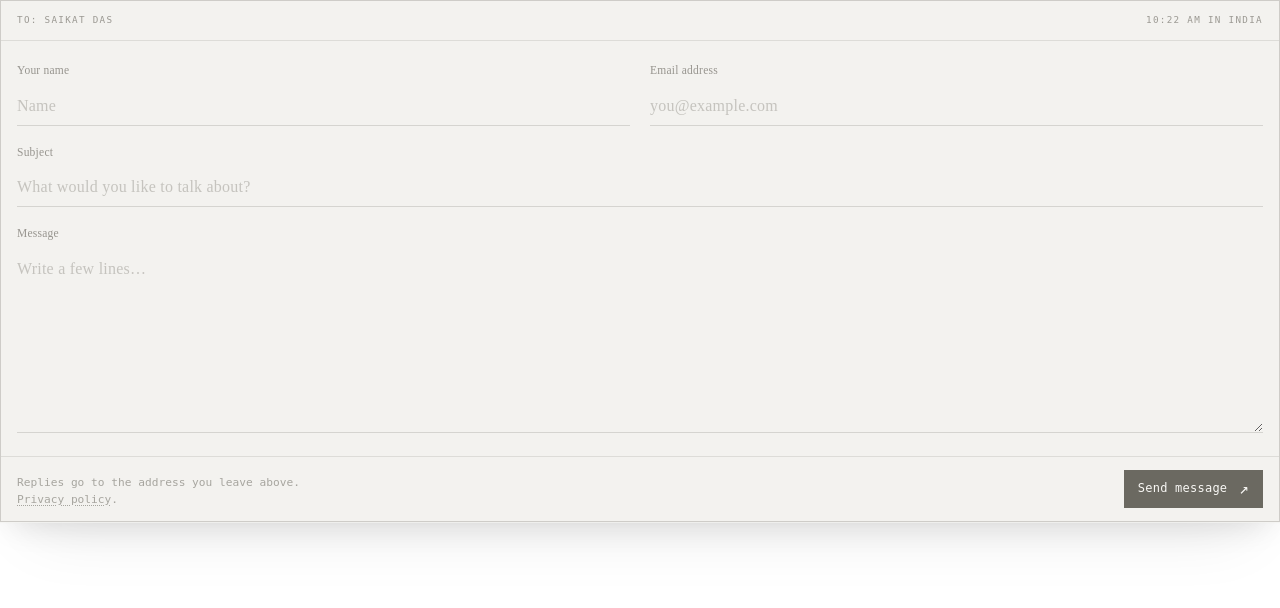
ContactForm › reports a network failure
The width and height of the screenshot is (1280, 608).
Type "Ada Example" into the field labelled "Your name".
click(324, 106); type("Ada Example")  # box left=17, top=87, right=630, bottom=126
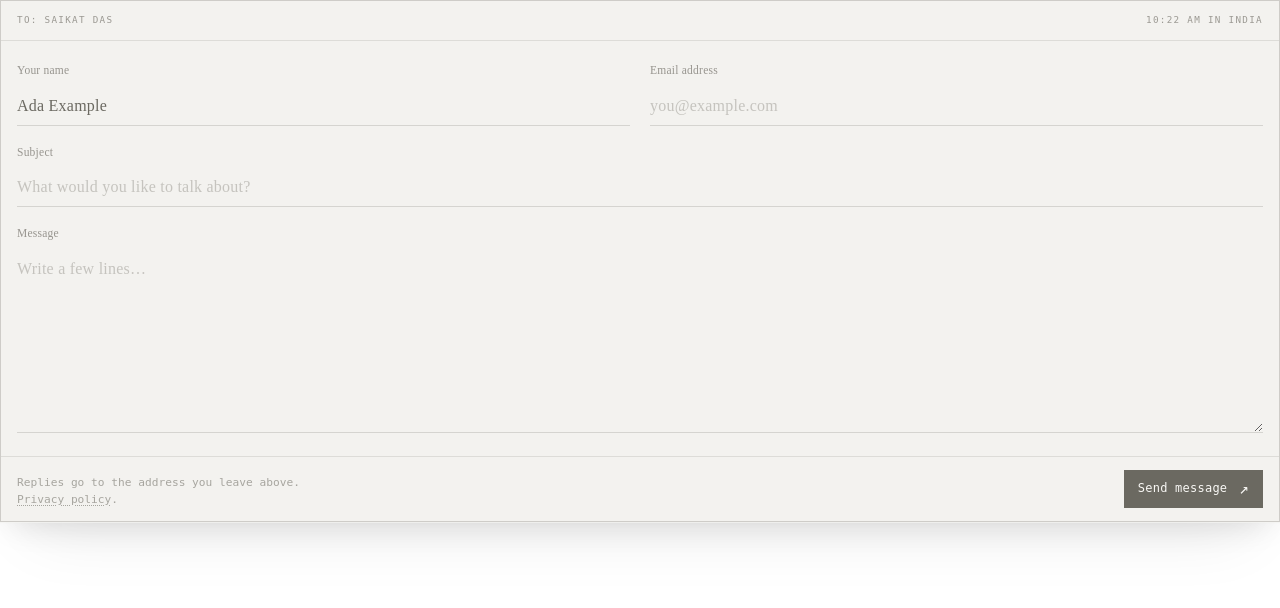
Type "ada@example.com" into the field labelled "Email address".
click(956, 106); type("ada@example.com")  # box left=650, top=87, right=1263, bottom=126
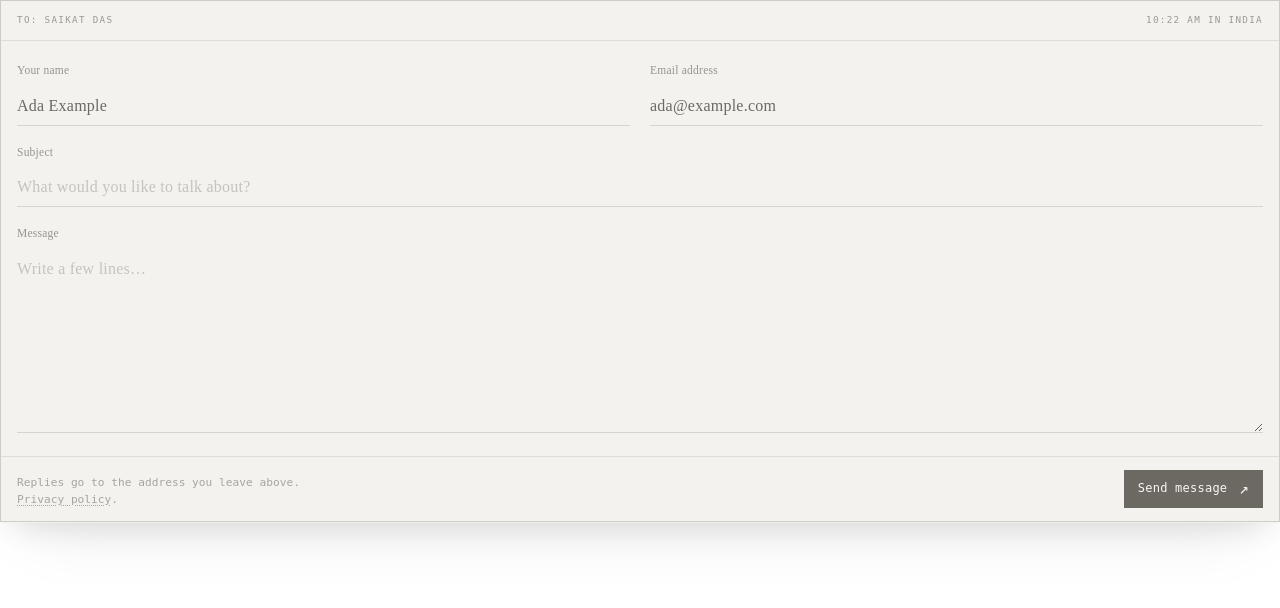
Type "A product question" into the field labelled "Subject".
click(640, 188); type("A product question")  # box left=17, top=168, right=1263, bottom=207
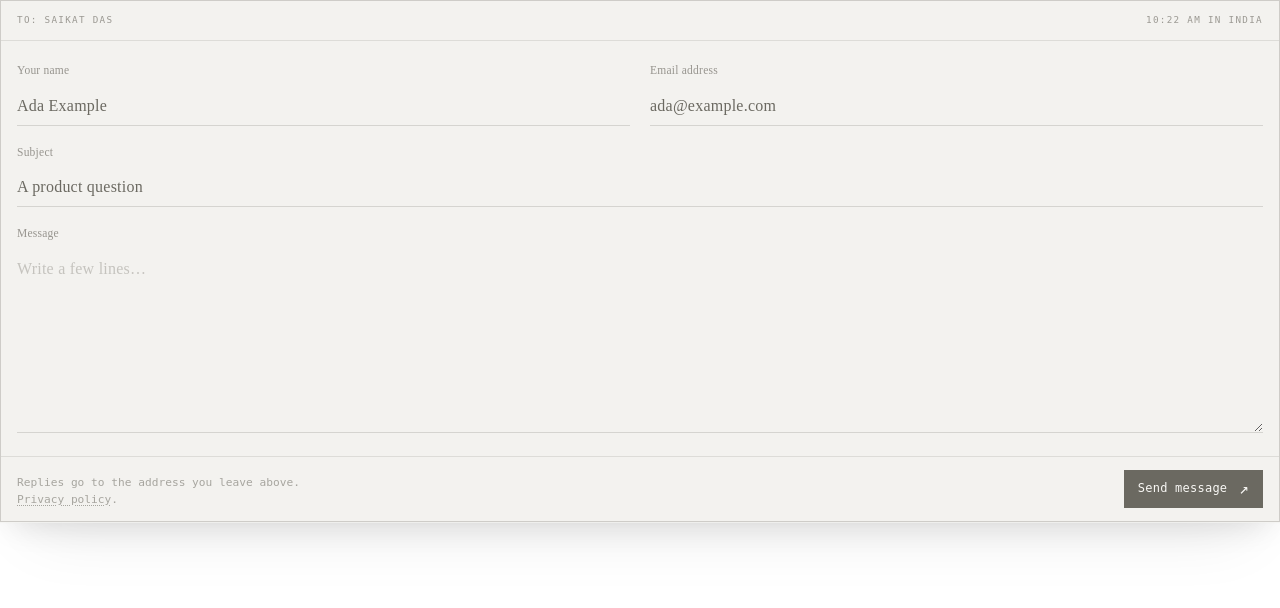
Type "I would like to discuss a product idea." into the text box labelled "Message".
click(640, 341); type("I would like to discuss a product idea.")  # box left=17, top=250, right=1263, bottom=433
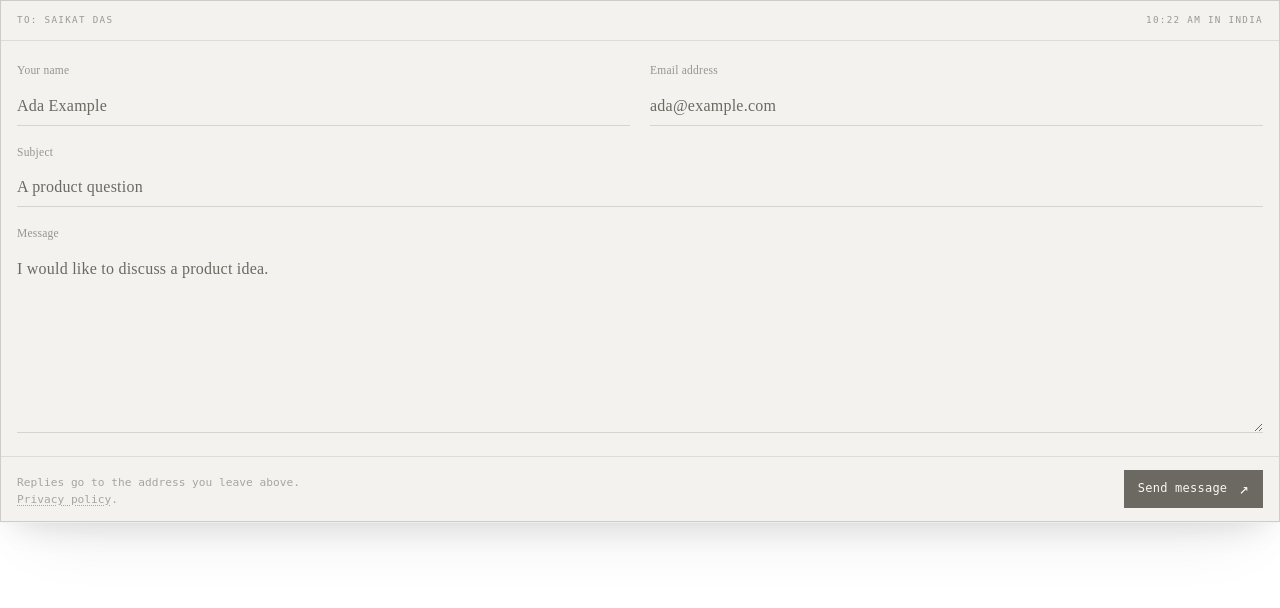
Submit the form
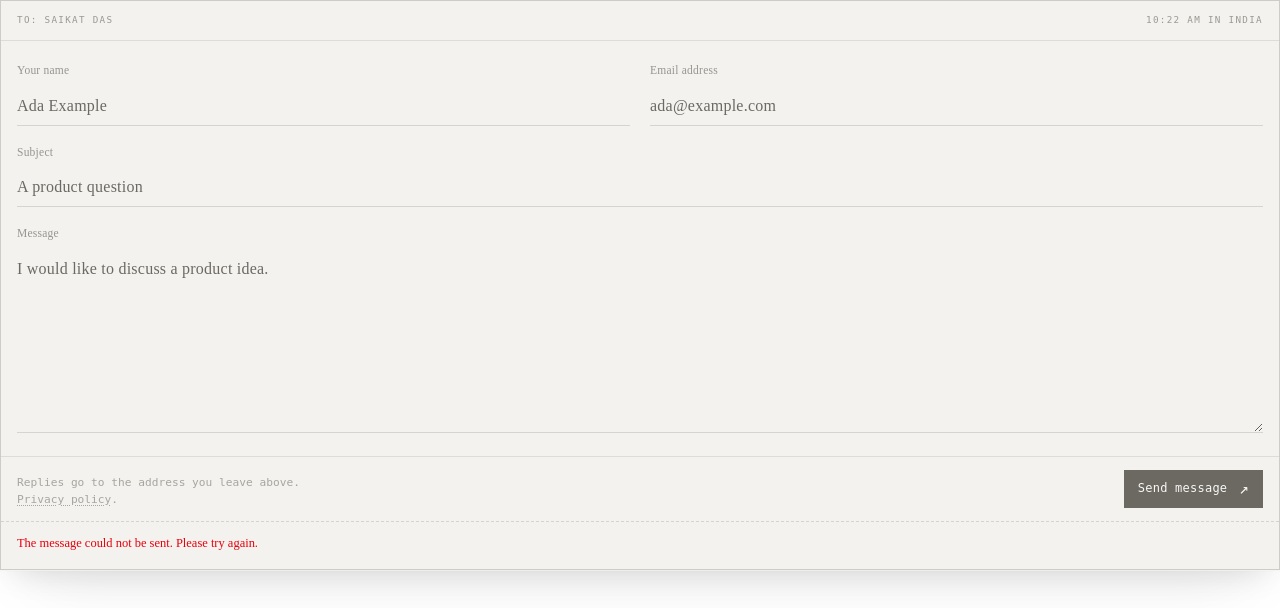
Now the message shows "could not be sent", box left=17, top=536, right=258, bottom=550
